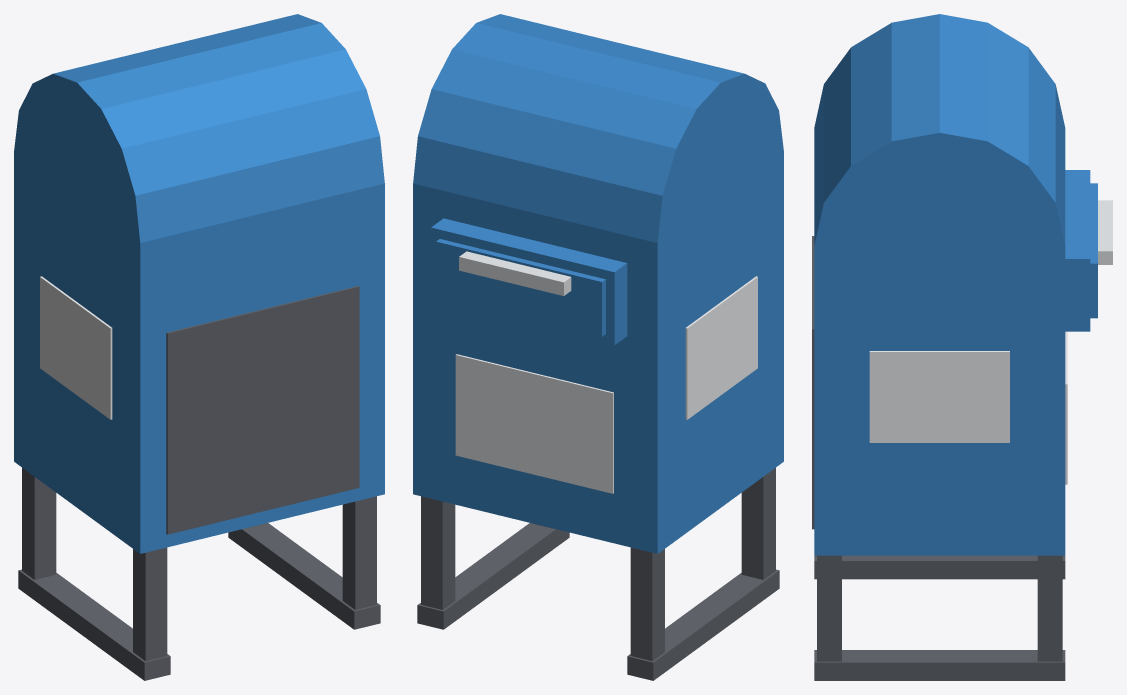
File: mailbox_blue.glb
3 renders of one model, left to right at view 1: azimuth 30°, elevation 25°; view 2: azimuth 150°, elevation 25°; view 3: azimuth 270°, elevation 25°, orthographic.
Visible parts, largest first — view 1: BoxBody, CurvedRoof, RearDoor, SideDecalL, FootL, FootR, Leg.001, Leg.003, Leg; view 2: BoxBody, CurvedRoof, FrontDecal, ChuteFlap, MailChute, SideDecalL, FootL, FootR, Leg, Leg.002, Leg.001, ChuteHandle; view 3: CurvedRoof, BoxBody, SideDecalR, FootR, FootL, MailChute, Leg.002, Leg.003, ChuteFlap, ChuteHandle, RearDoor, FrontDecal.
Boxes of the visible parts, box(x1,y1,x2,y2) form: BoxBody: box(14, 151, 384, 553); CurvedRoof: box(14, 14, 384, 319); RearDoor: box(166, 286, 359, 534); SideDecalL: box(40, 276, 112, 419); FootL: box(18, 569, 170, 680); FootR: box(228, 523, 380, 629); Leg.001: box(133, 547, 167, 661); Leg.003: box(342, 496, 376, 609); Leg: box(22, 468, 56, 579); BoxBody: box(413, 151, 783, 553); CurvedRoof: box(413, 14, 783, 307); FrontDecal: box(455, 354, 613, 493); ChuteFlap: box(436, 239, 605, 336); MailChute: box(431, 218, 627, 345); SideDecalL: box(685, 276, 757, 419); FootL: box(627, 569, 779, 680); FootR: box(417, 523, 569, 629); Leg: box(630, 547, 664, 661); Leg.002: box(421, 496, 455, 609); Leg.001: box(741, 468, 775, 579); ChuteHandle: box(459, 251, 571, 295); CurvedRoof: box(814, 14, 1065, 350); BoxBody: box(814, 246, 1065, 555); SideDecalR: box(869, 351, 1009, 442); FootR: box(814, 650, 1065, 680); FootL: box(814, 555, 1065, 579); MailChute: box(1065, 170, 1090, 331); Leg.002: box(1037, 555, 1062, 661); Leg.003: box(817, 555, 841, 661); ChuteFlap: box(1090, 183, 1097, 318); ChuteHandle: box(1098, 200, 1112, 264); RearDoor: box(812, 236, 814, 529); FrontDecal: box(1065, 331, 1067, 484).
Size of the model in its own units: 0.569 by 1.21 by 0.5995.
